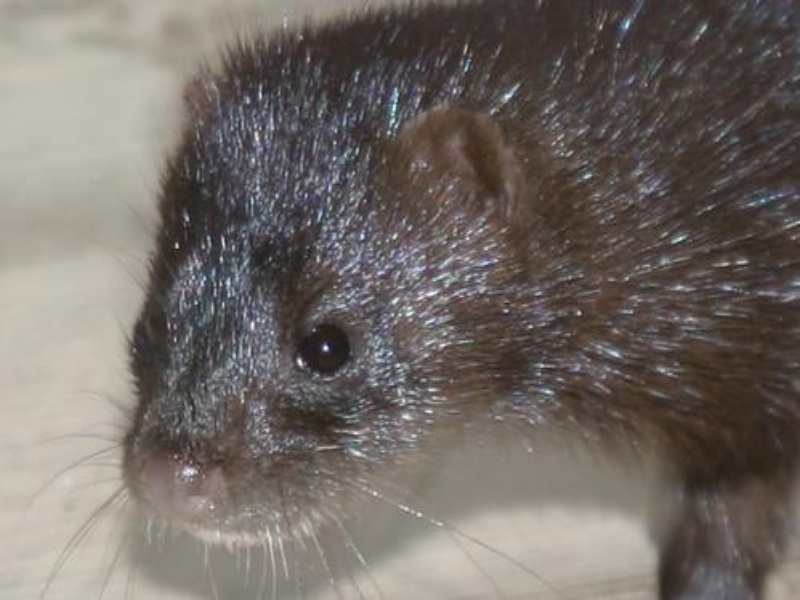minkish: (109, 8, 795, 563)
